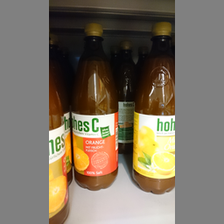juice: (72, 22, 119, 190), (133, 21, 172, 194)
